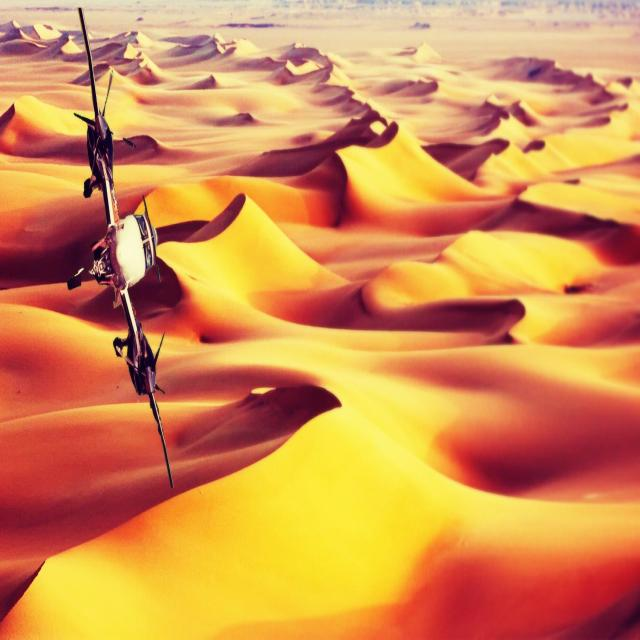airplane: (66, 8, 179, 489)
